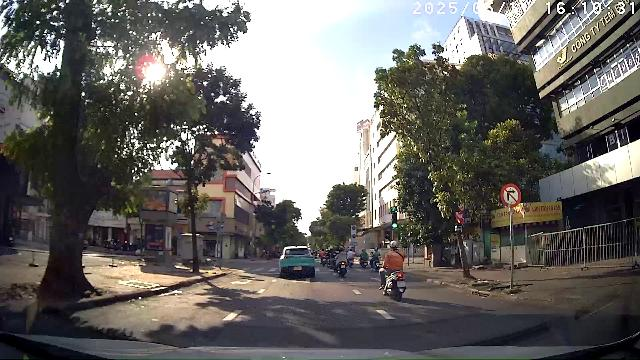123b-cam-re-phai: (501, 183, 522, 207)
